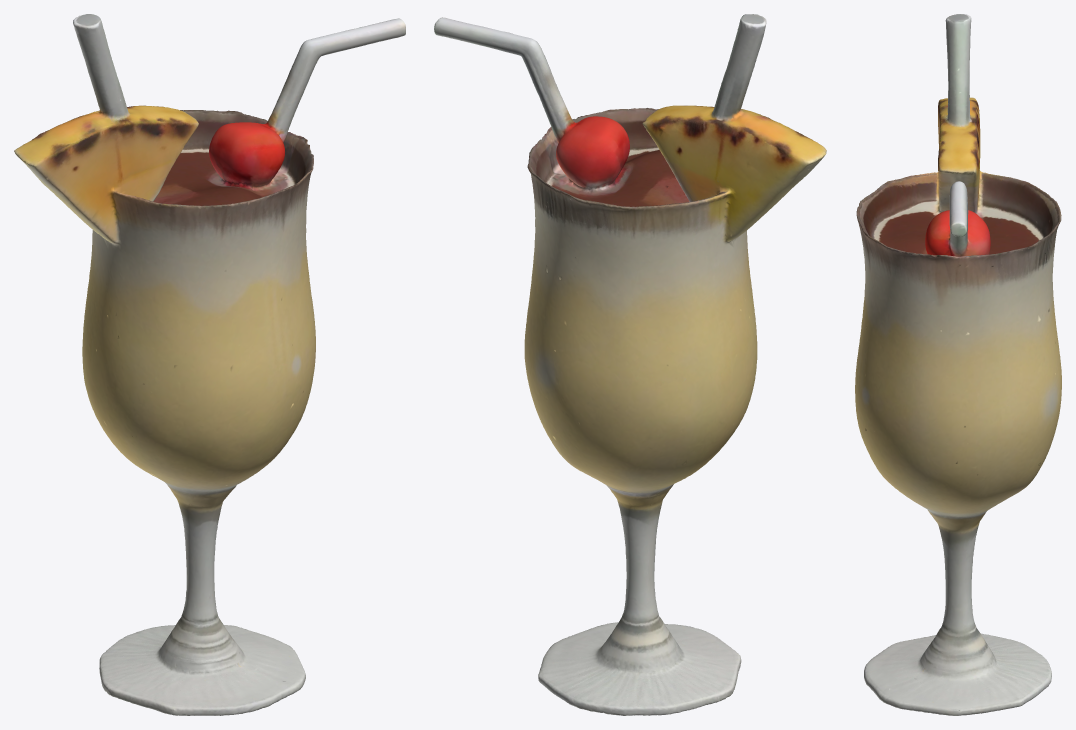
File: chikahula_pina_colada.glb
The picture shows the model from 3 angles, left to right: view 1: azimuth 30°, elevation 25°; view 2: azimuth 150°, elevation 25°; view 3: azimuth 270°, elevation 25°; orthographic projection. The views are drawn at different scales.
Size of the model in its own units: 1.17 by 2 by 0.6126.
Materials: 1 (1 with a texture image).
